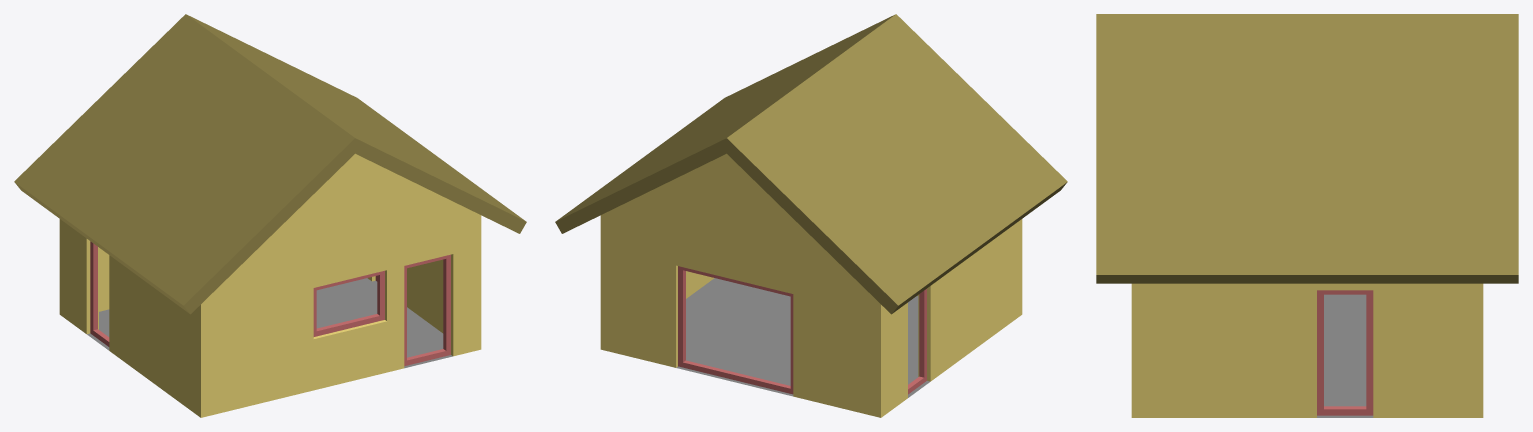
Rendered from result.glb.
3 views of the same model, side by side, from view 1: azimuth 30°, elevation 25°; view 2: azimuth 150°, elevation 25°; view 3: azimuth 270°, elevation 25° (orthographic). The views are drawn at different scales.
Parts seen in each view (by area): view 1: af7c914f-ebbe-4a48-b160-d18db4f3bec1__undefined (×2), 9a8b5b7b-cef6-4e1f-9839-5794fcdc50cc__undefined, a133720b-0fdd-4a07-a553-0d6bdd9136d3__Plane_6, 833b787f-f2b2-4df2-a06a-9583a1325506__Box, 08f4e4f3-fb14-4377-9c7a-e297af47a282__Box_3, eb7d8468-8056-41a4-8002-52546f4a07ed__Box_12; view 2: af7c914f-ebbe-4a48-b160-d18db4f3bec1__undefined (×2), 9a8b5b7b-cef6-4e1f-9839-5794fcdc50cc__undefined, a133720b-0fdd-4a07-a553-0d6bdd9136d3__Plane_6, aa2faae7-e2be-4d13-8237-07f31069df1a__Box_9, eb7d8468-8056-41a4-8002-52546f4a07ed__Box_12; view 3: af7c914f-ebbe-4a48-b160-d18db4f3bec1__undefined, 9a8b5b7b-cef6-4e1f-9839-5794fcdc50cc__undefined, a133720b-0fdd-4a07-a553-0d6bdd9136d3__Plane_6, 0d7d9422-9c9a-4d6d-ad2f-ade6af608e2d__Box_15.
Boxes of the visible parts, x1=… form: af7c914f-ebbe-4a48-b160-d18db4f3bec1__undefined (×2): x1=14, y1=14, x2=526, y2=314; 9a8b5b7b-cef6-4e1f-9839-5794fcdc50cc__undefined: x1=59, y1=153, x2=481, y2=417; a133720b-0fdd-4a07-a553-0d6bdd9136d3__Plane_6: x1=87, y1=278, x2=452, y2=368; 833b787f-f2b2-4df2-a06a-9583a1325506__Box: x1=404, y1=254, x2=450, y2=366; 08f4e4f3-fb14-4377-9c7a-e297af47a282__Box_3: x1=313, y1=270, x2=384, y2=336; eb7d8468-8056-41a4-8002-52546f4a07ed__Box_12: x1=90, y1=241, x2=109, y2=346; af7c914f-ebbe-4a48-b160-d18db4f3bec1__undefined (×2): x1=555, y1=14, x2=1067, y2=314; 9a8b5b7b-cef6-4e1f-9839-5794fcdc50cc__undefined: x1=600, y1=153, x2=1022, y2=417; a133720b-0fdd-4a07-a553-0d6bdd9136d3__Plane_6: x1=676, y1=278, x2=929, y2=397; aa2faae7-e2be-4d13-8237-07f31069df1a__Box_9: x1=678, y1=266, x2=793, y2=394; eb7d8468-8056-41a4-8002-52546f4a07ed__Box_12: x1=908, y1=289, x2=926, y2=394; af7c914f-ebbe-4a48-b160-d18db4f3bec1__undefined: x1=1096, y1=14, x2=1518, y2=283; 9a8b5b7b-cef6-4e1f-9839-5794fcdc50cc__undefined: x1=1131, y1=283, x2=1483, y2=417; a133720b-0fdd-4a07-a553-0d6bdd9136d3__Plane_6: x1=1317, y1=294, x2=1373, y2=417; 0d7d9422-9c9a-4d6d-ad2f-ade6af608e2d__Box_15: x1=1317, y1=290, x2=1373, y2=415.
Size of the model in its own units: 702 by 500 by 600.
